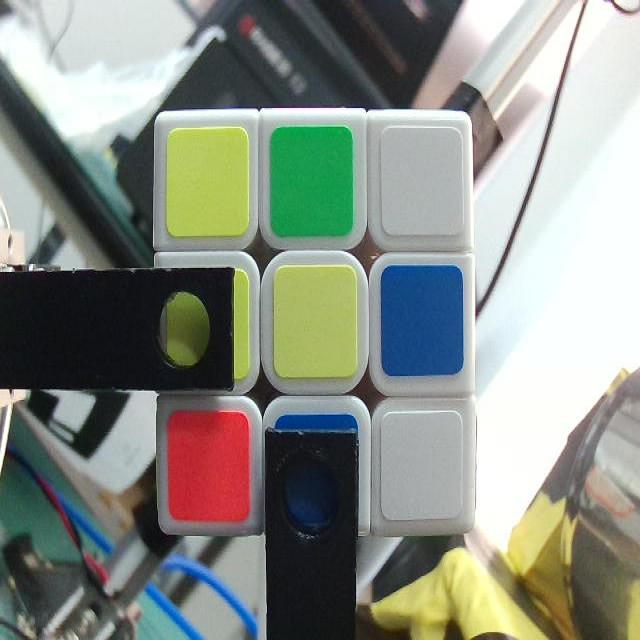b: (276, 414, 361, 530), (383, 272, 467, 379)
g: (273, 127, 351, 237)
o: (165, 415, 253, 517)
w: (380, 129, 467, 236), (384, 413, 463, 515)
y: (274, 266, 353, 374), (168, 270, 249, 374), (170, 128, 246, 235)
